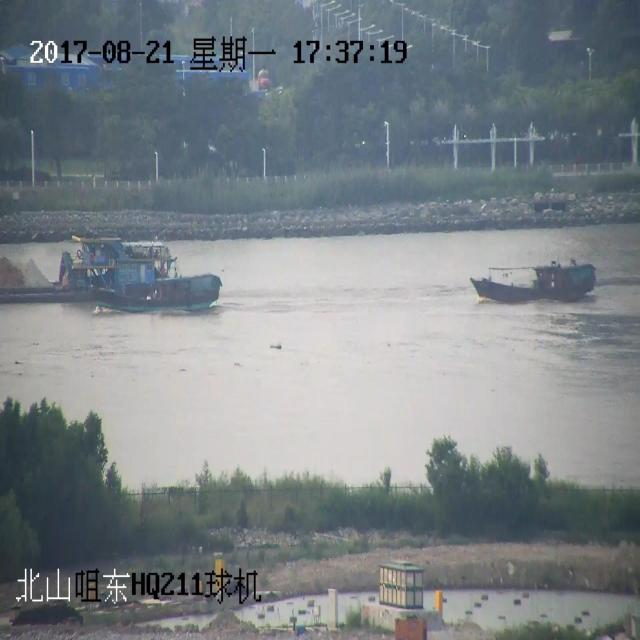cargoship: (8, 220, 224, 336)
fishing boat: (452, 248, 601, 326)
